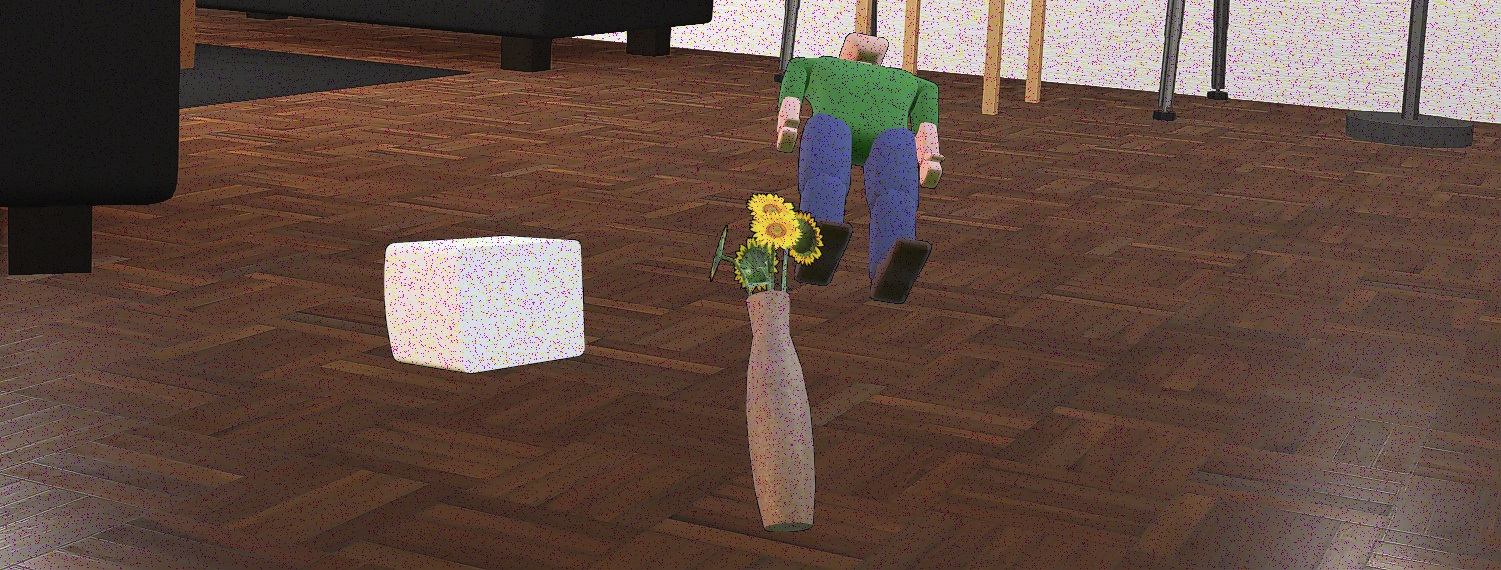enchufe: (383, 235, 586, 374)
flor: (709, 192, 825, 533)
persona: (776, 32, 946, 304)
